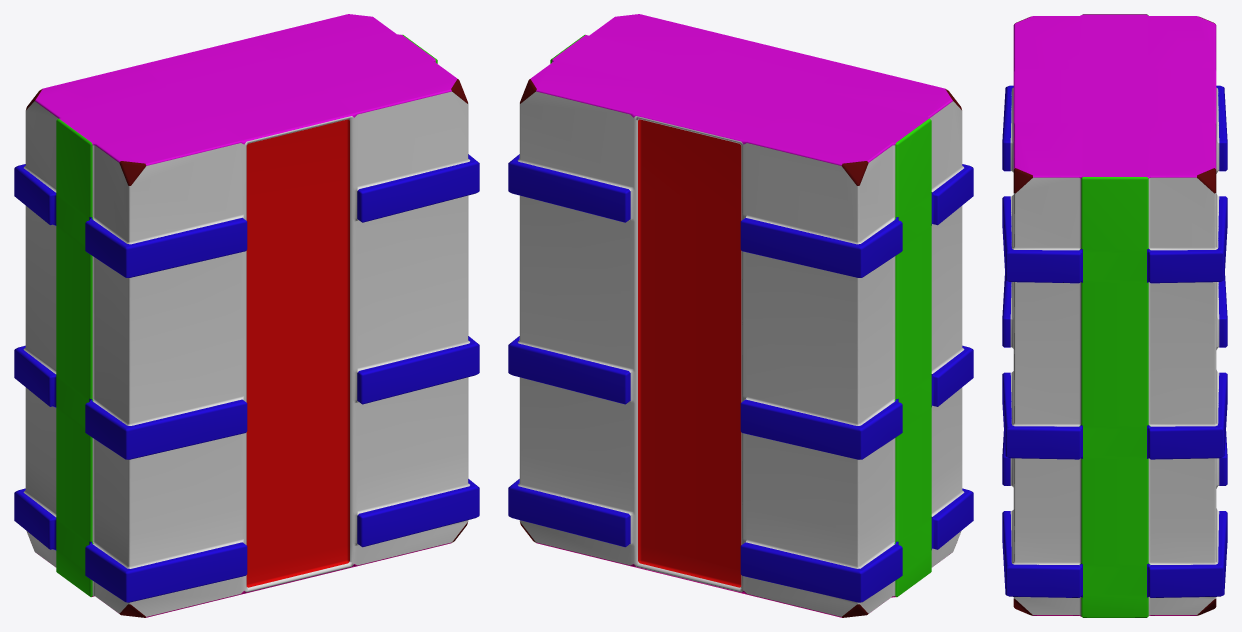
Rendered from cabinet_mp.FBX.
3 renders of one model, left to right at view 1: azimuth 30°, elevation 25°; view 2: azimuth 150°, elevation 25°; view 3: azimuth 270°, elevation 25°, orthographic. The views are drawn at different scales.
Parts seen in each view (by area): view 1: cabinet_mp; view 2: cabinet_mp; view 3: cabinet_mp.
Part boxes in pixels (box(x1,y1,x2,y2)): cabinet_mp: box(14, 14, 479, 617); cabinet_mp: box(508, 14, 973, 617); cabinet_mp: box(1002, 14, 1227, 617).
Bounding box in the file's own units: 2.18 × 2.63 × 1.22.
